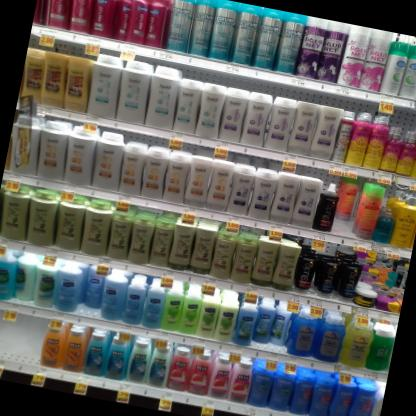empty_space: (0, 308, 48, 366), (332, 212, 356, 239)
